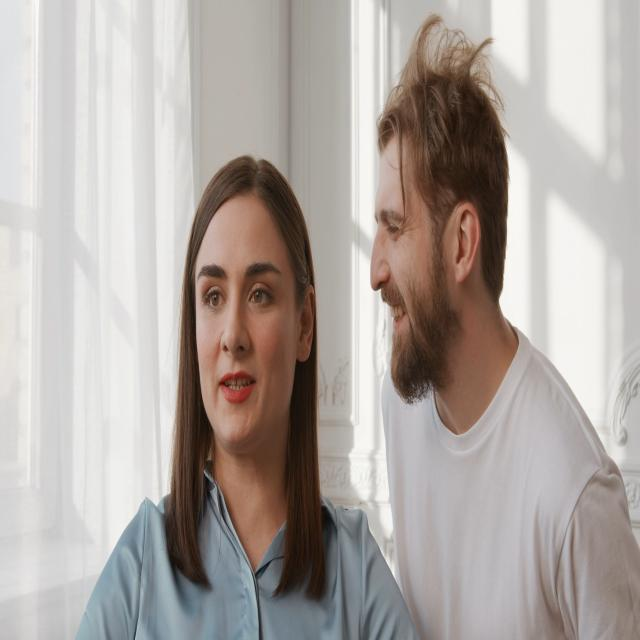happy: (338, 59, 524, 446), (175, 175, 327, 468)
